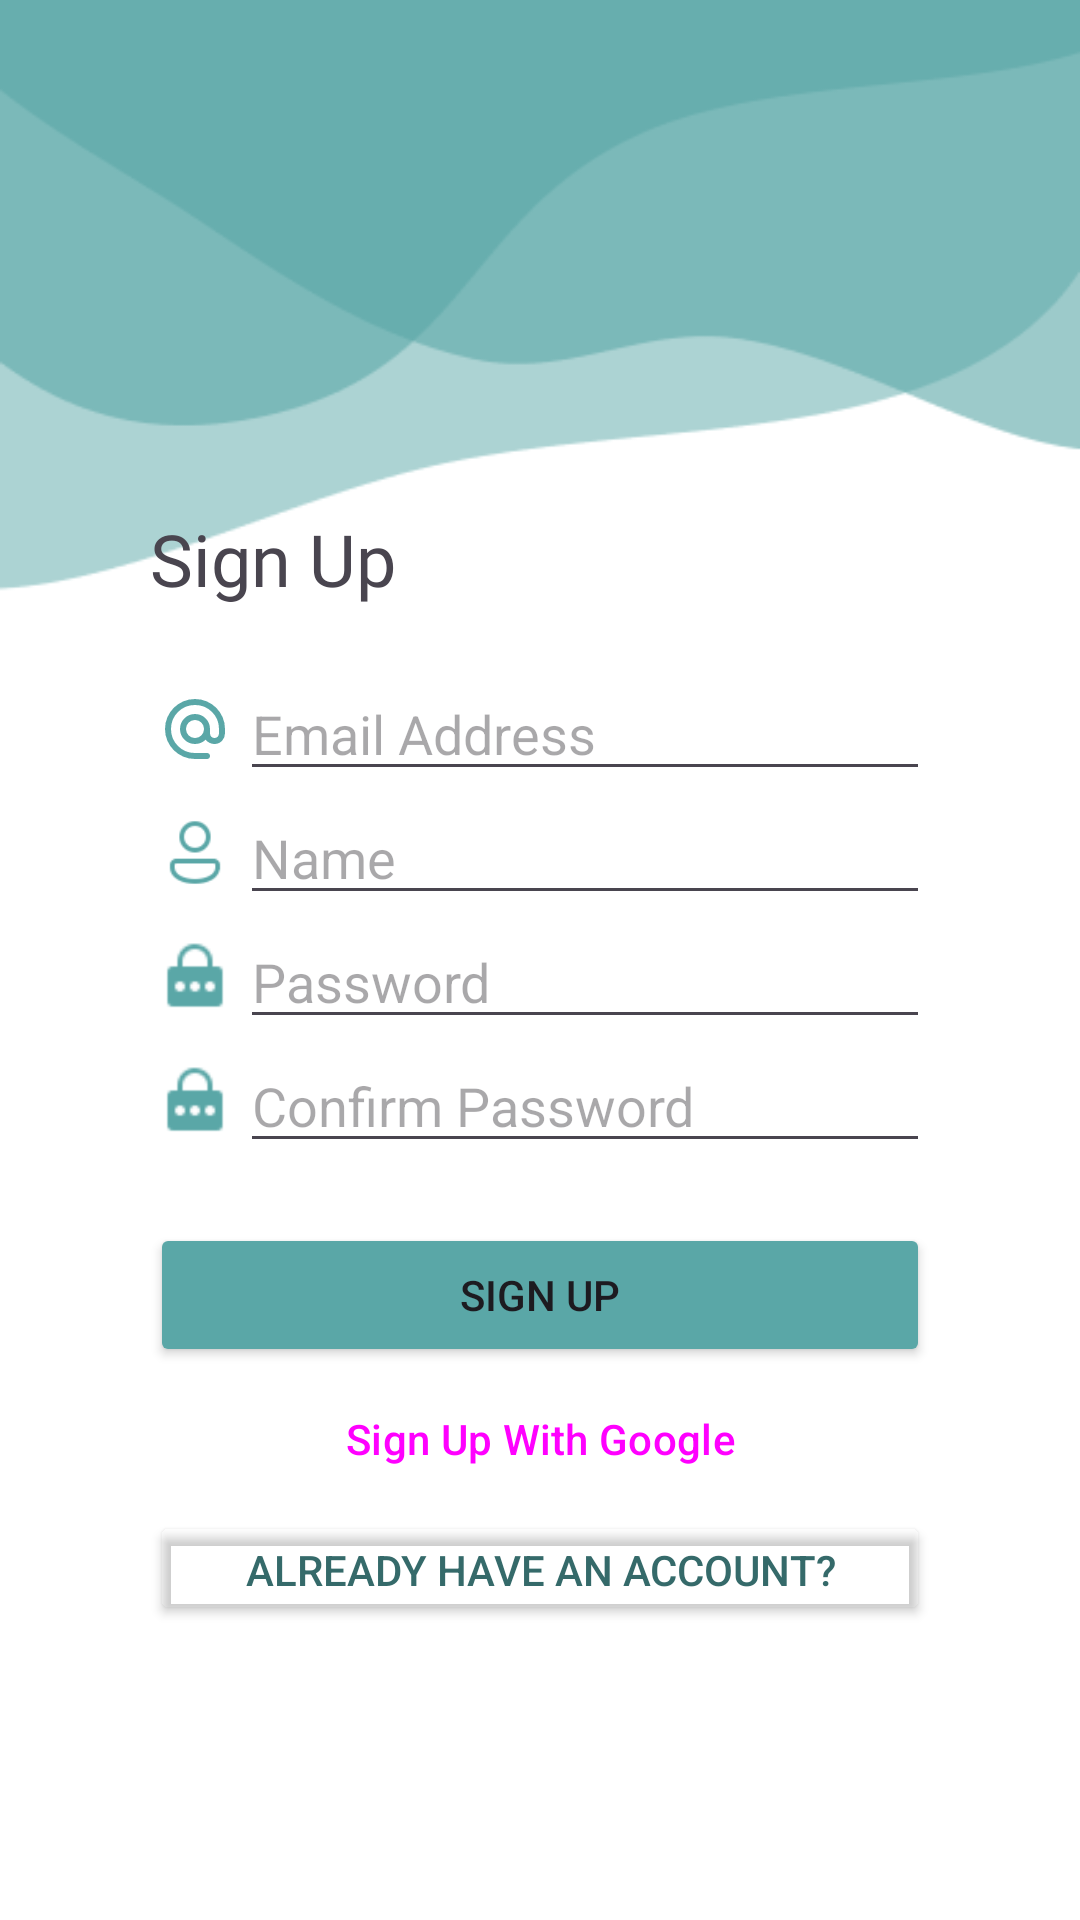

Where to tap for icons on this 1080×1920 app screen, as (x=x, y=y):
alternate email: (x=195, y=729)
profile: (x=195, y=852)
